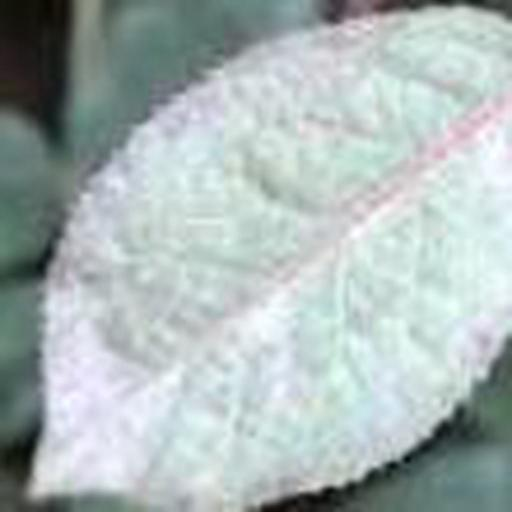powdery_mildew: (30, 6, 512, 512)
